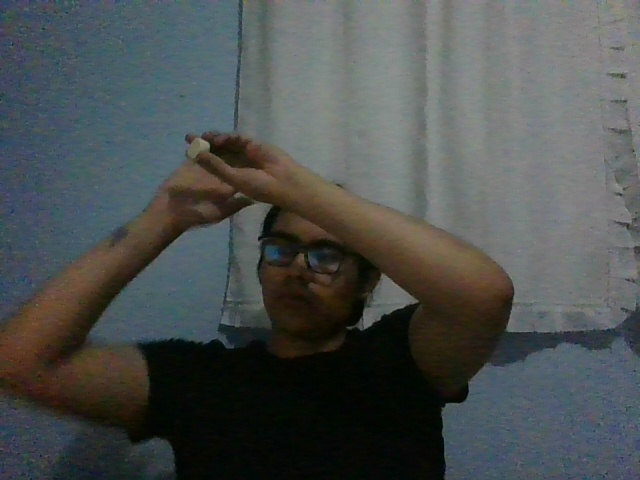goma: (186, 138, 211, 160)
